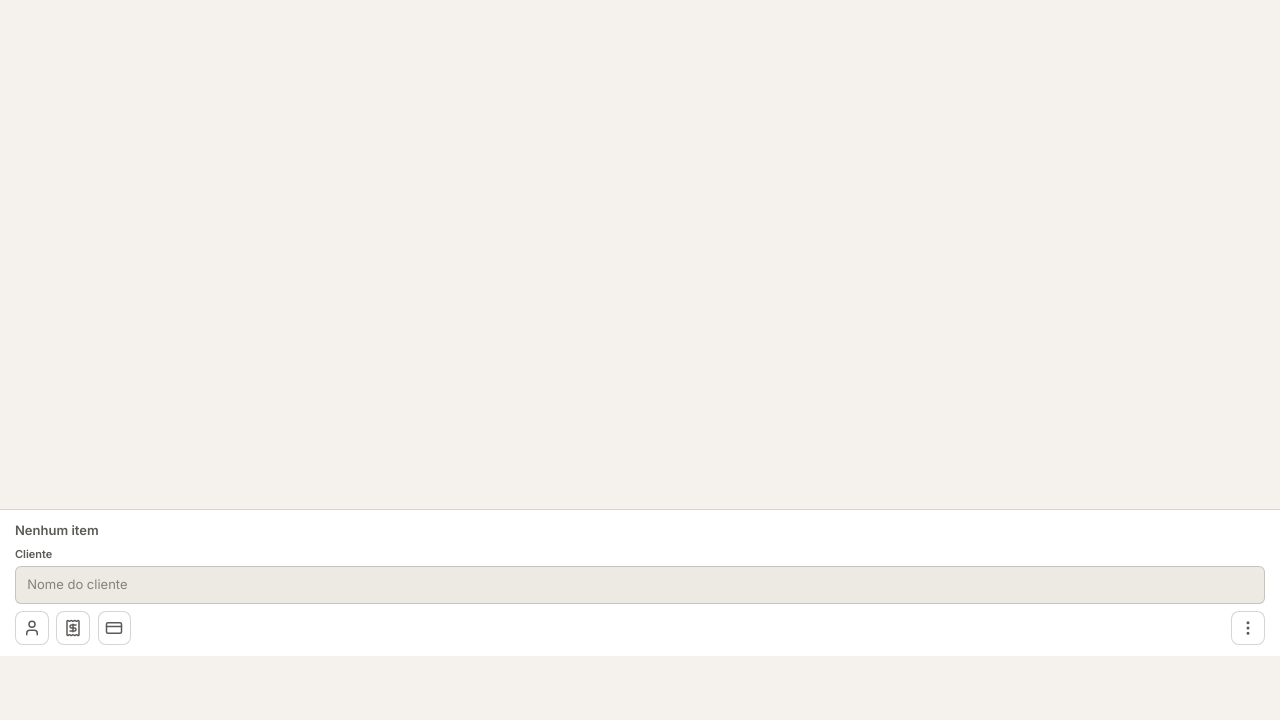
CartBar › fecha o menu de mais ações pelo Escape
This screenshot has width=1280, height=720.
Click the button named "Mais ações": (1248,628) [1231,611,1265,645]
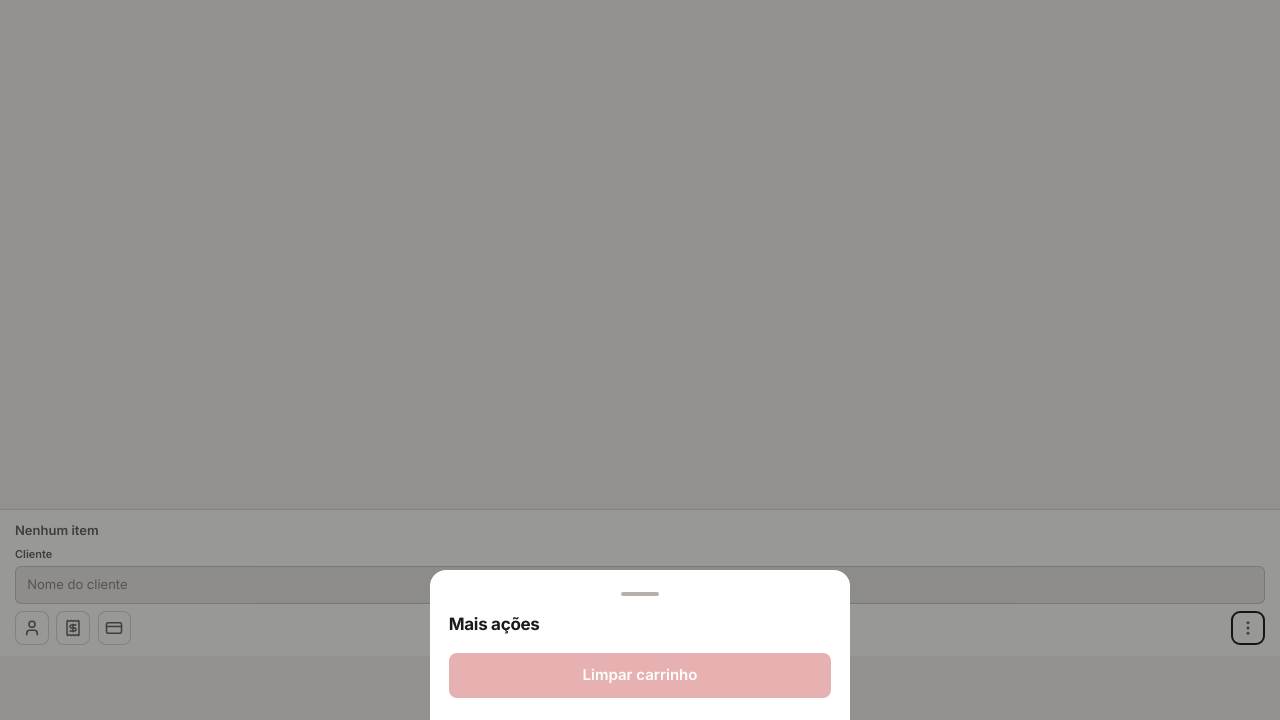
Now the dialog is shown, box [430,570,850,719]
Press Escape
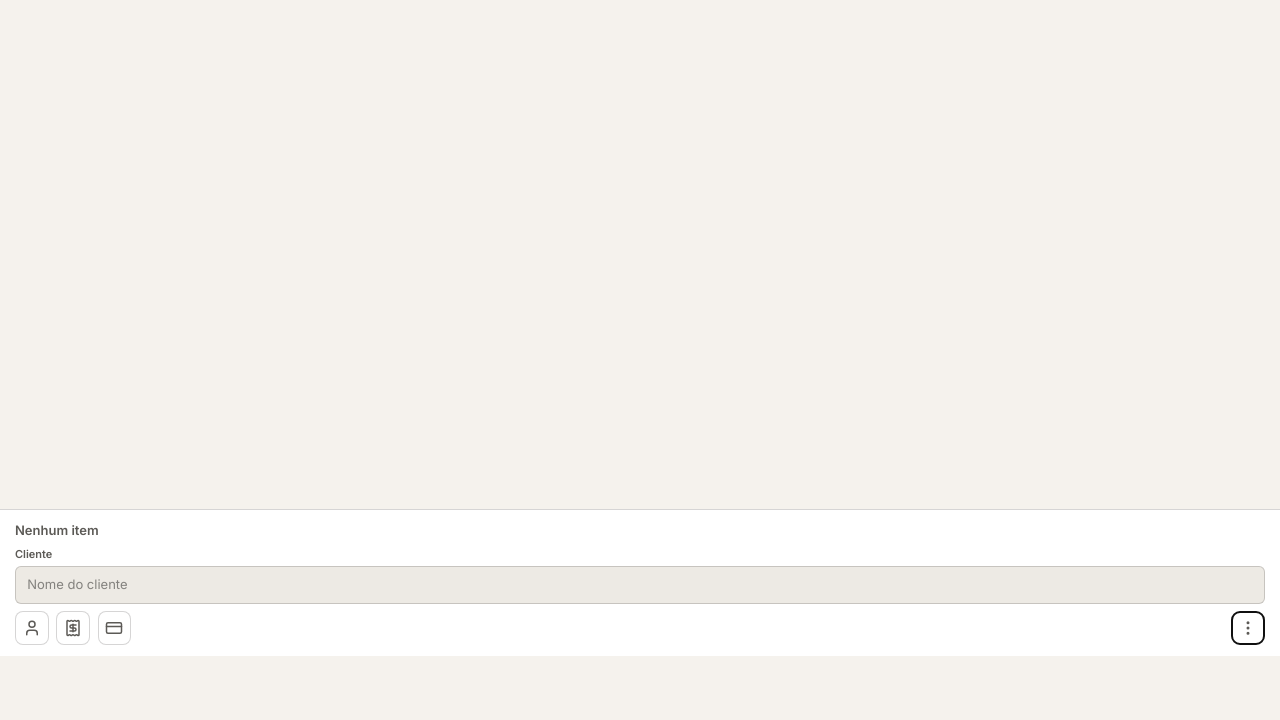
Now the dialog is gone
